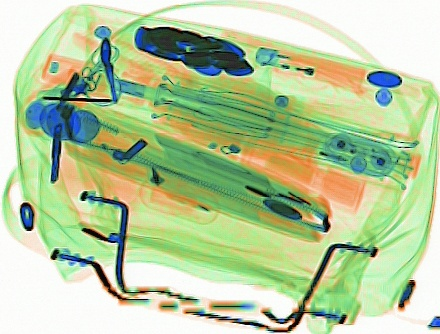lighter: (253, 42, 371, 92)
